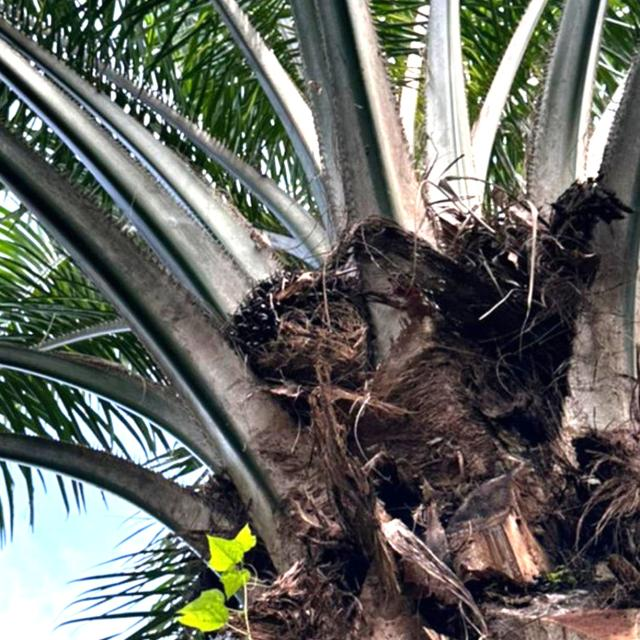unripe: (219, 258, 388, 415)
